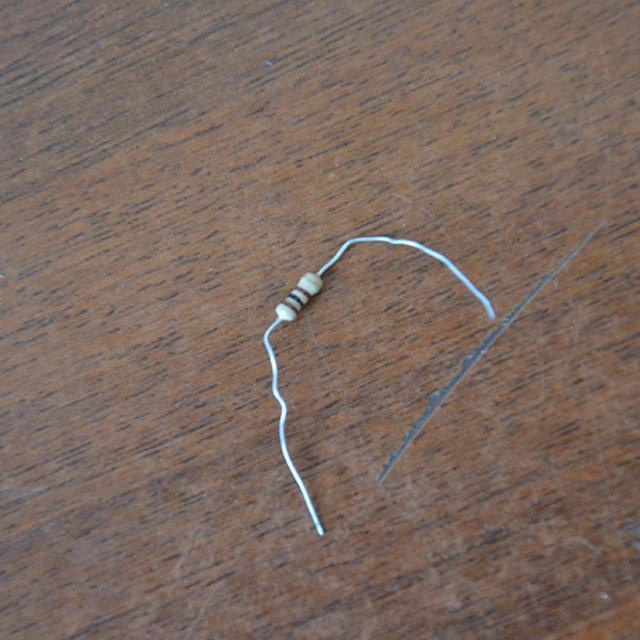black: (288, 293, 306, 306)
brown: (294, 283, 314, 298), (282, 299, 300, 315)
gold: (303, 272, 322, 290)
resistor: (265, 266, 330, 329)
